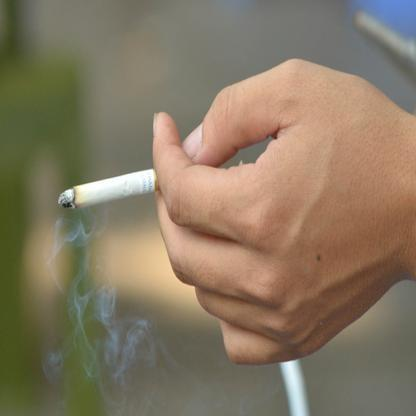trash: (59, 170, 161, 209)
